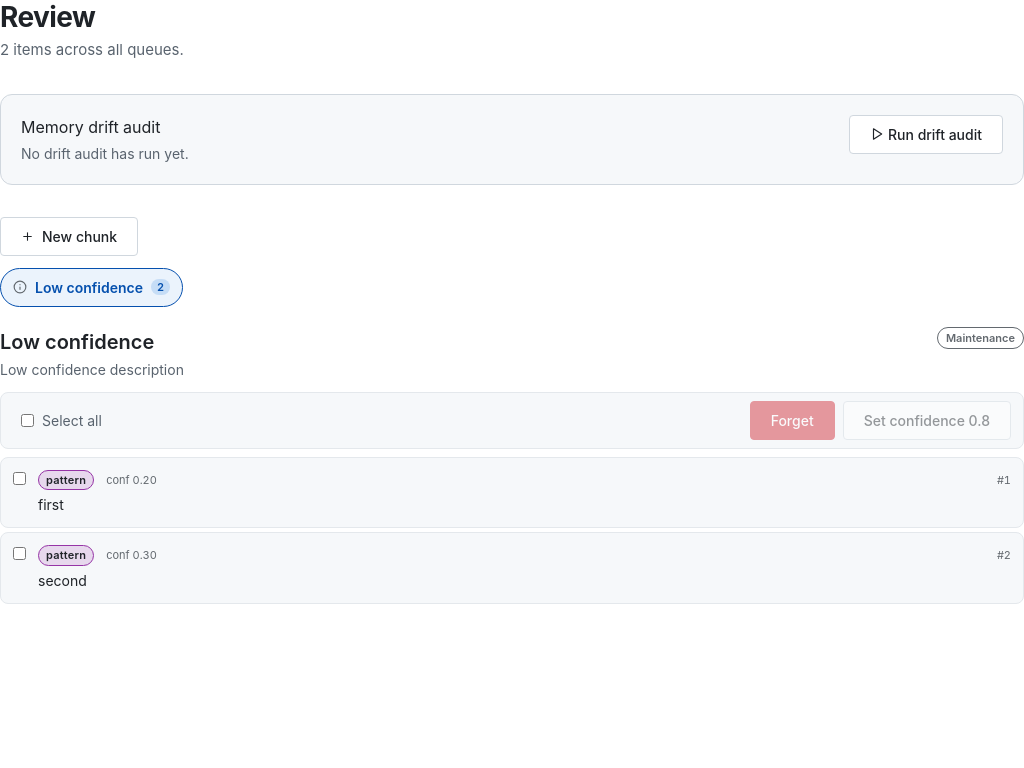
Scenario: CuratePage destructive actions › cancelling changes nothing
Expected: the text "first" is shown, [38,496,64,513]
Click the checkbox labelled "Select all".
click(28, 420)  # box [21,414,34,426]
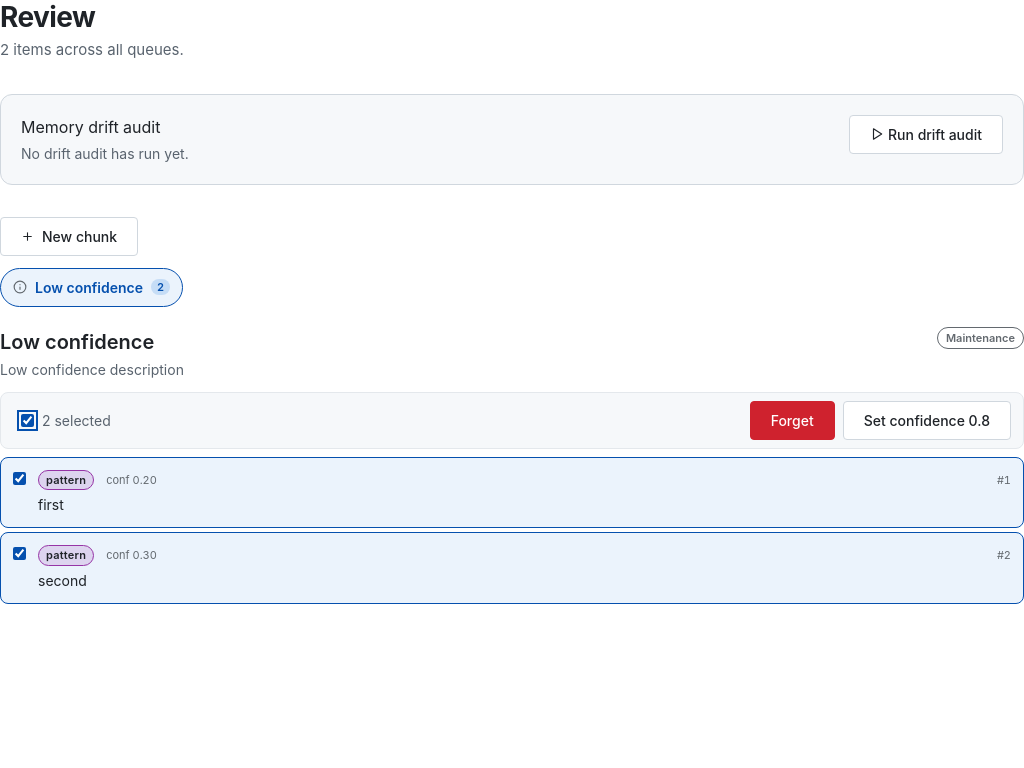
Click the button "Forget".
click(792, 420)  # box [750,400,835,440]
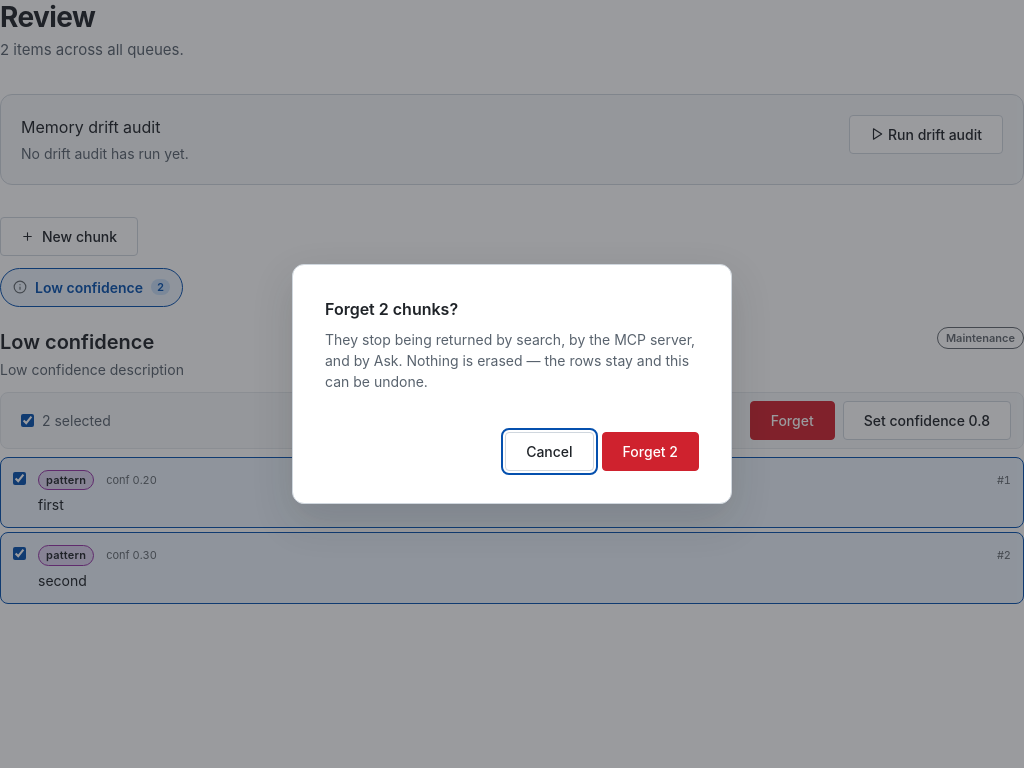
Click the button "Cancel".
click(549, 452)  # box [505,432,594,471]
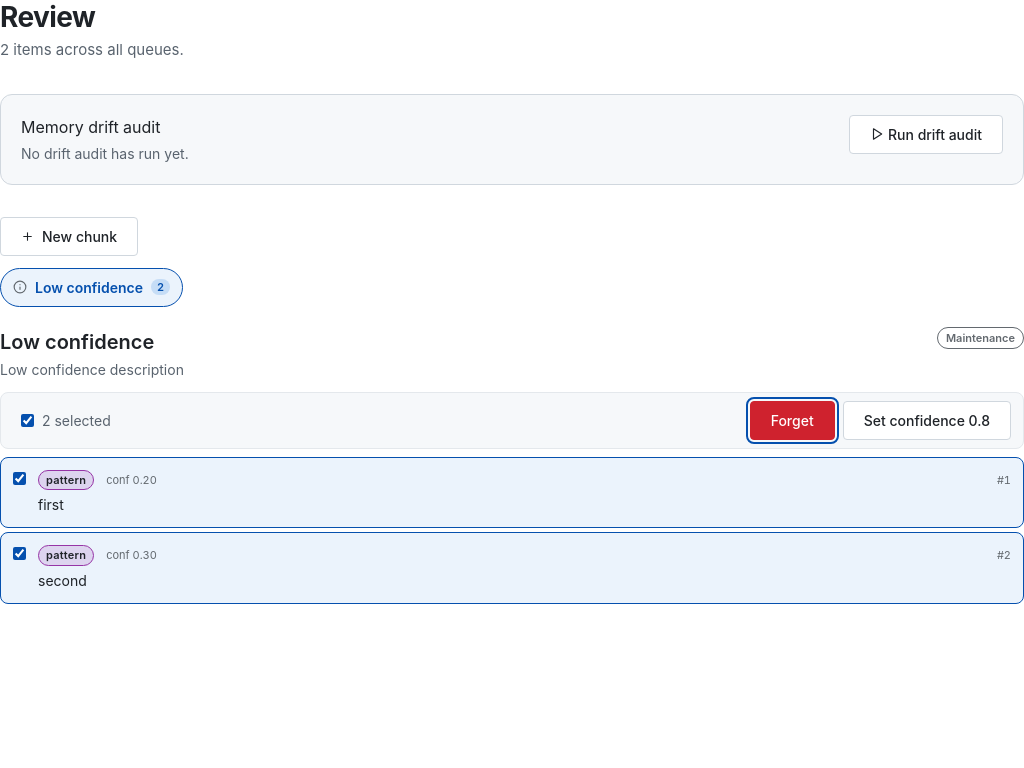
Expected: the dialog is gone
